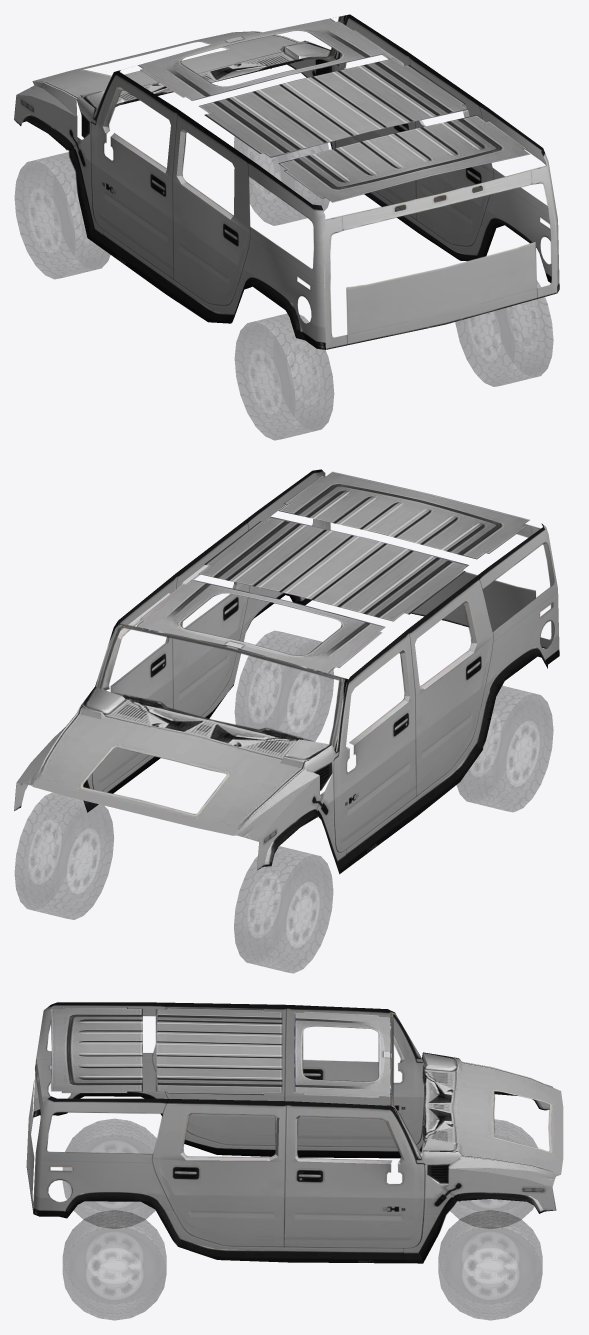
The model's file is suv.glb.
3 renders of one model, top to bottom at view 1: azimuth 30°, elevation 25°; view 2: azimuth 150°, elevation 25°; view 3: azimuth 270°, elevation 25°, orthographic. The views are drawn at different scales.
Parts seen in each view (by area): view 1: body, wheel_FR, wheel_RR, wheel_FL, wheel_RL; view 2: body, wheel_RL, wheel_RR, wheel_FR, wheel_FL; view 3: body, wheel_RL, wheel_FL, wheel_FR, wheel_RR.
Part boxes in pixels (bbox=[...]): body: bbox=[14, 14, 559, 349]; wheel_FR: bbox=[235, 314, 333, 440]; wheel_RR: bbox=[15, 152, 110, 279]; wheel_FL: bbox=[455, 281, 553, 386]; wheel_RL: bbox=[234, 137, 329, 225]; body: bbox=[14, 469, 559, 874]; wheel_RL: bbox=[15, 793, 113, 919]; wheel_RR: bbox=[234, 846, 332, 973]; wheel_FR: bbox=[457, 686, 553, 811]; wheel_FL: bbox=[235, 631, 333, 741]; body: bbox=[26, 1002, 563, 1263]; wheel_RL: bbox=[438, 1210, 542, 1320]; wheel_FL: bbox=[63, 1210, 166, 1320]; wheel_FR: bbox=[63, 1119, 156, 1228]; wheel_RR: bbox=[439, 1119, 537, 1228].
Bounding box in the file's own units: 2.54 × 2.1 × 4.9.
2 materials, 2 textured.
